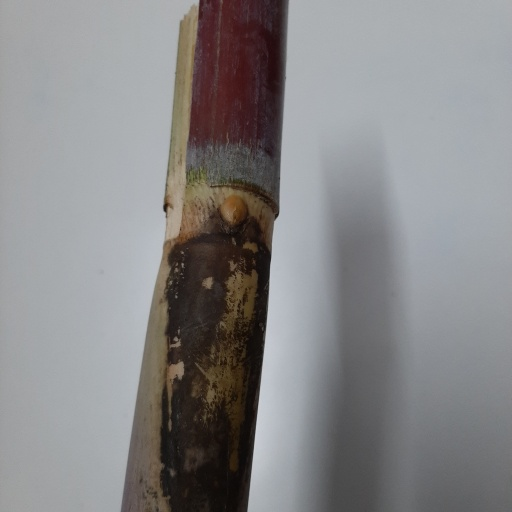Bud: (219, 196, 248, 230)
